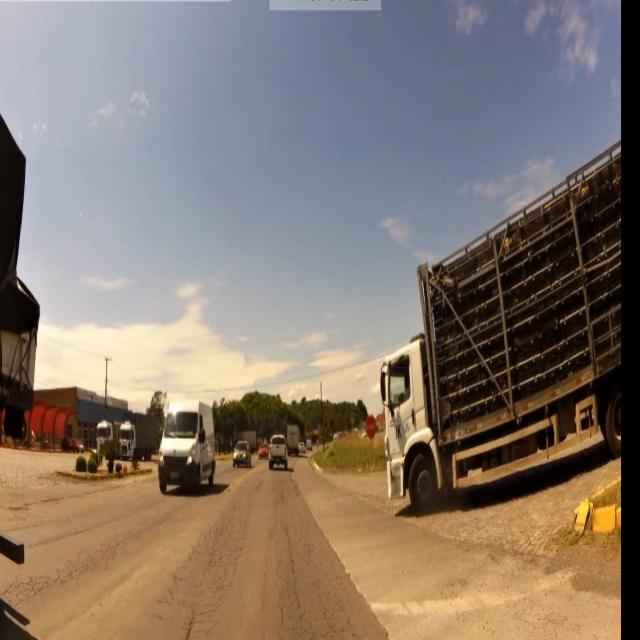R-1: (364, 414, 378, 442)
